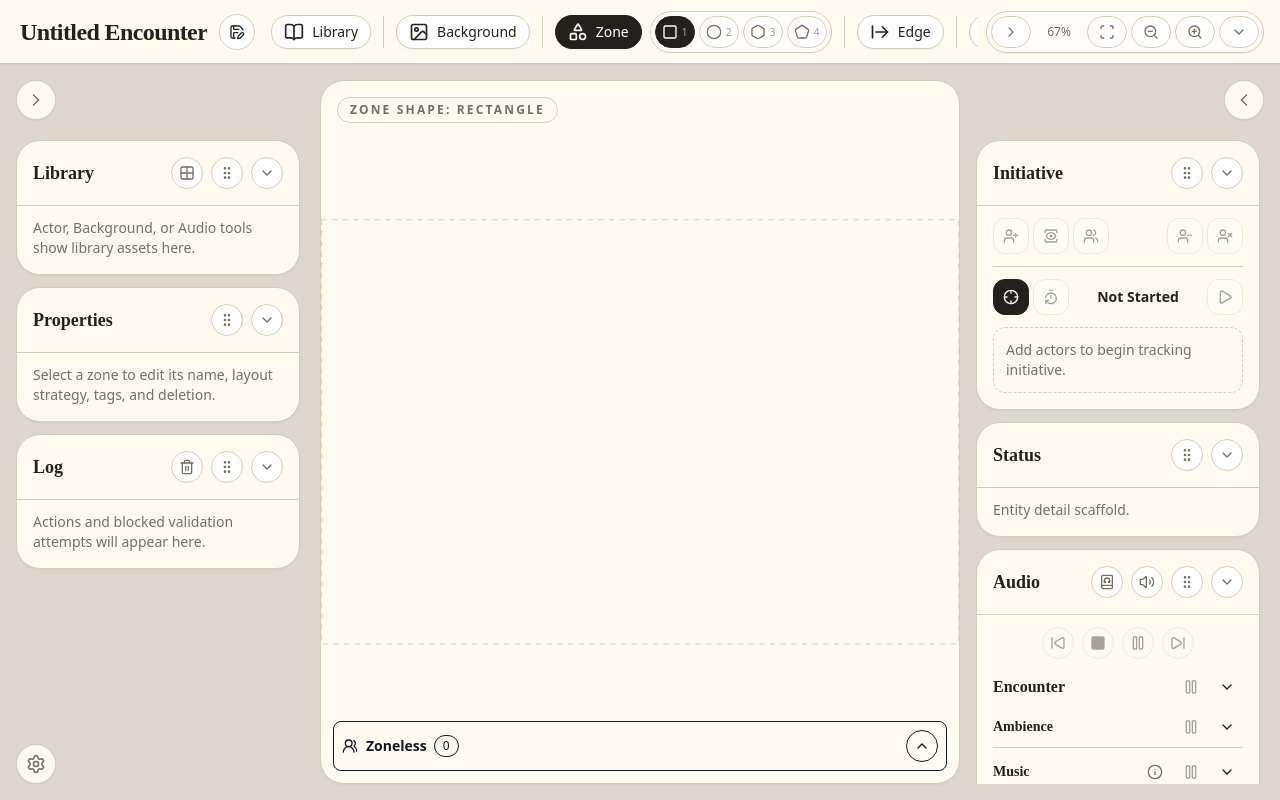
AssetLibraryModal › does not enter a folder when opening its context menu
Click the button "Library" at [321, 32], box 271,14 -> 371,48
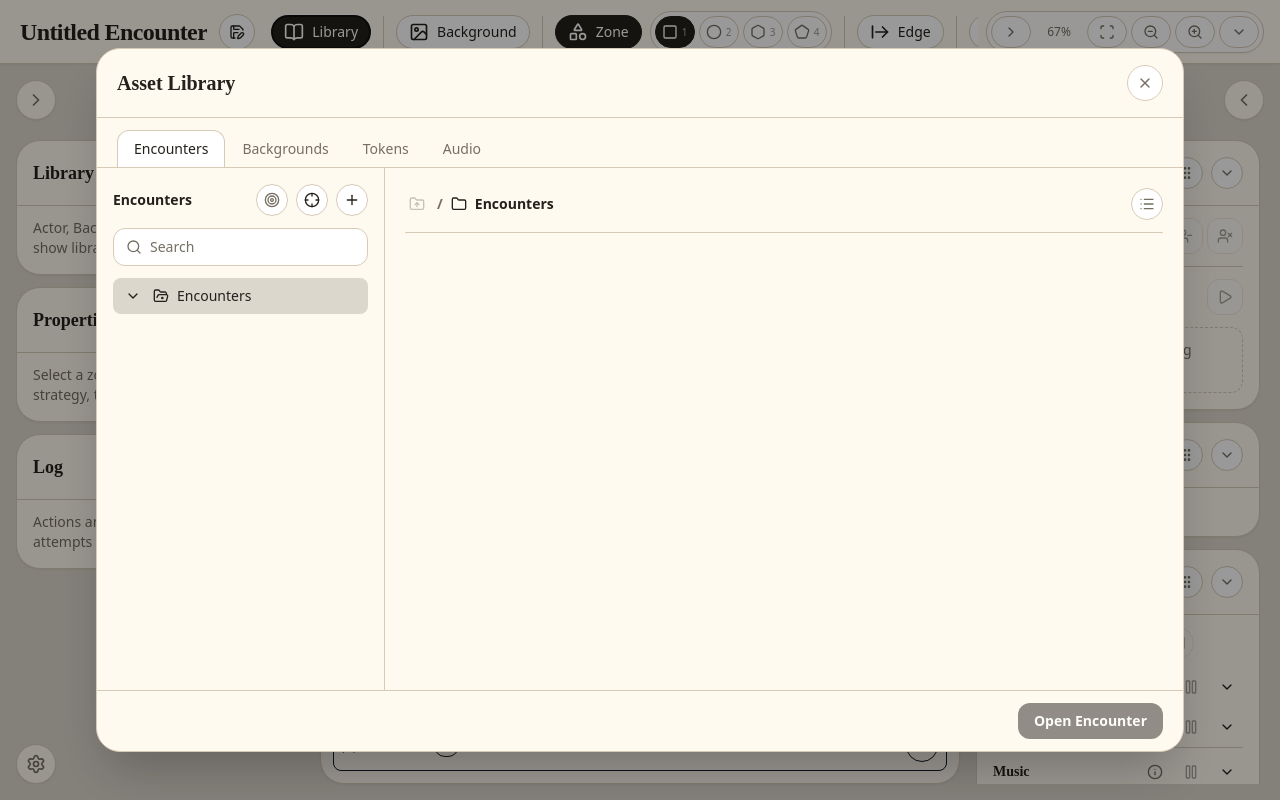
Click the tab "Backgrounds" at [286, 148], box 225,130 -> 346,167
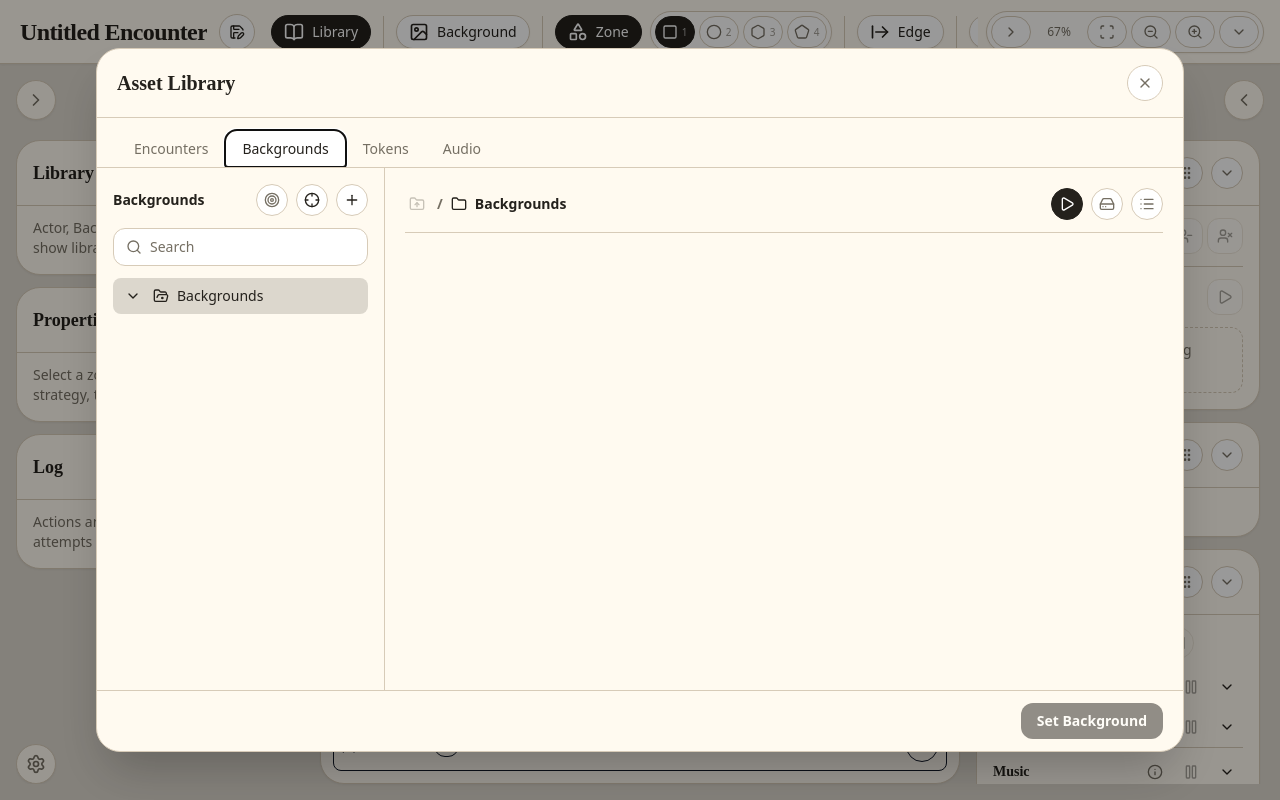
Click the button named "Add to Backgrounds" at [352, 200], box 336,184 -> 368,216
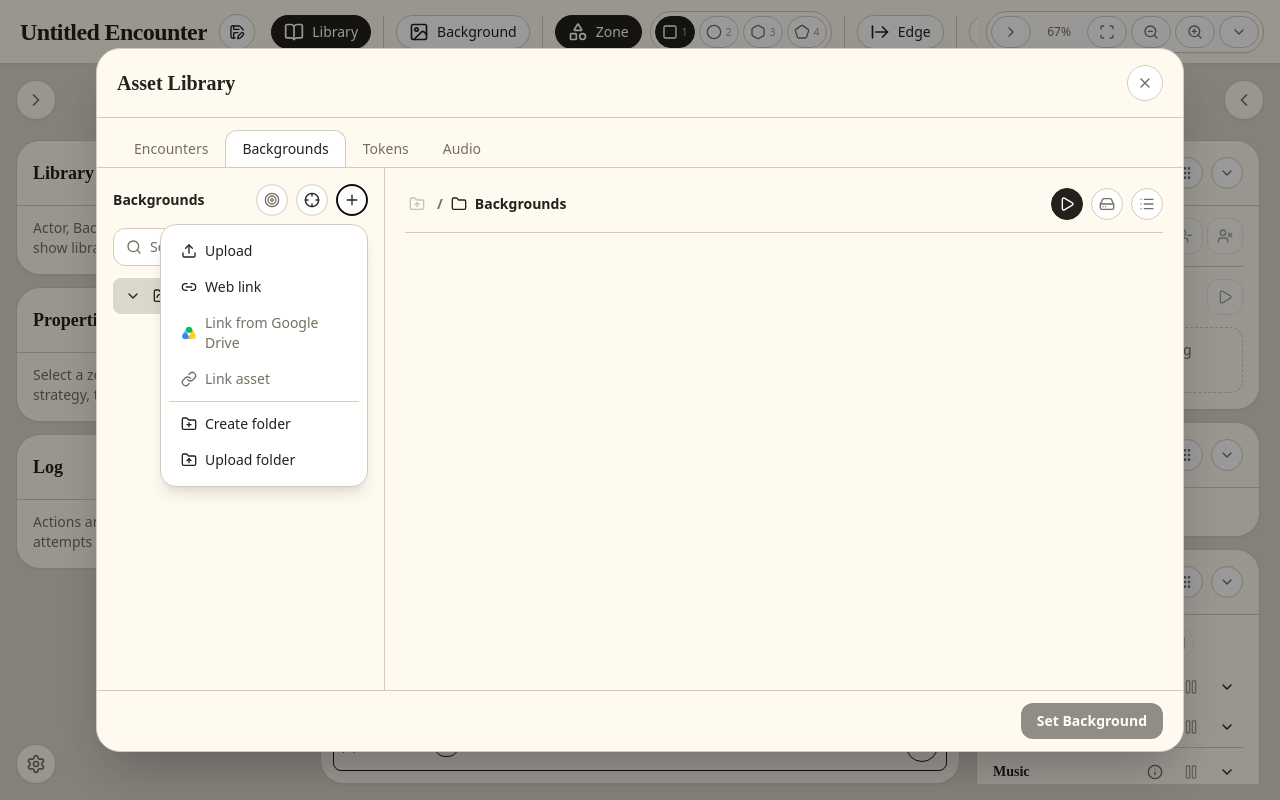
Click the menu item "Create folder" at [264, 424], box 169,406 -> 359,442
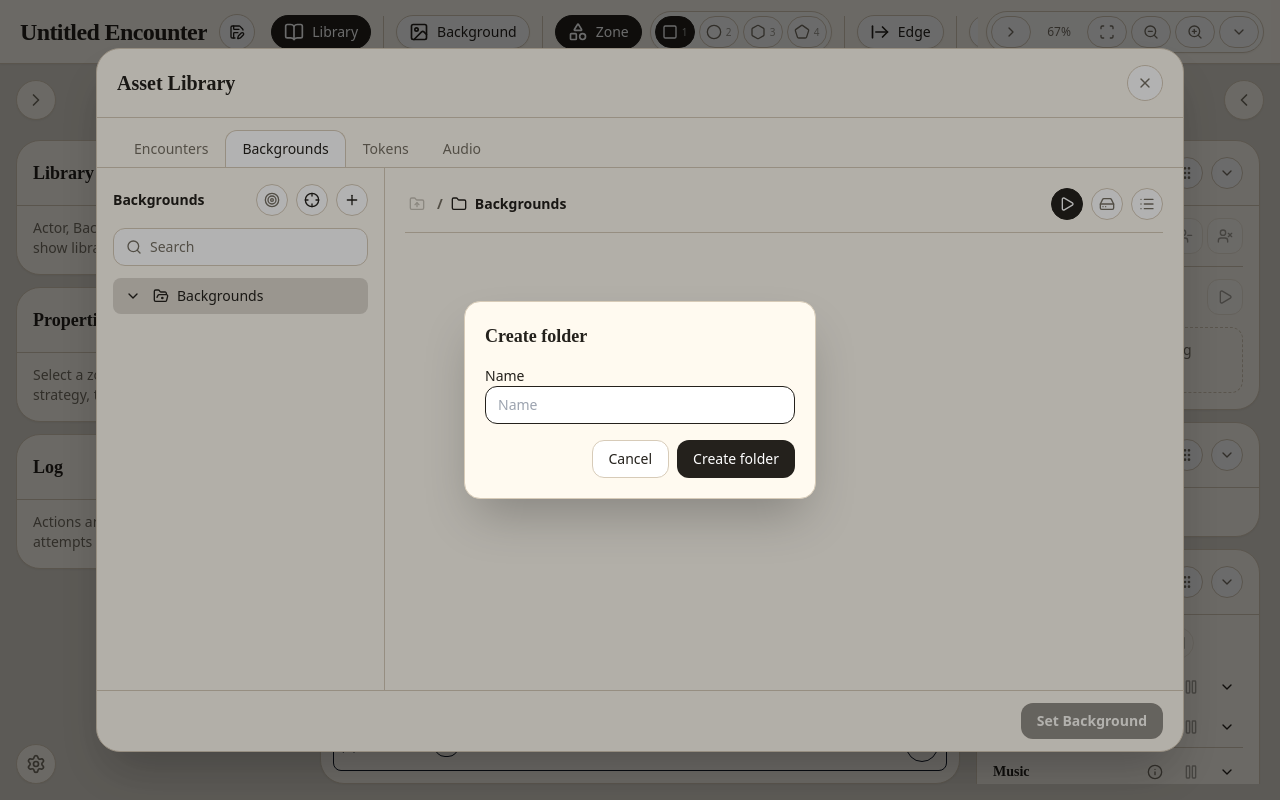
Type "Maps" into the field named "Folder name" at [640, 405], box 485,386 -> 795,424
Click the button "Create folder" at [736, 459], box 677,440 -> 795,478
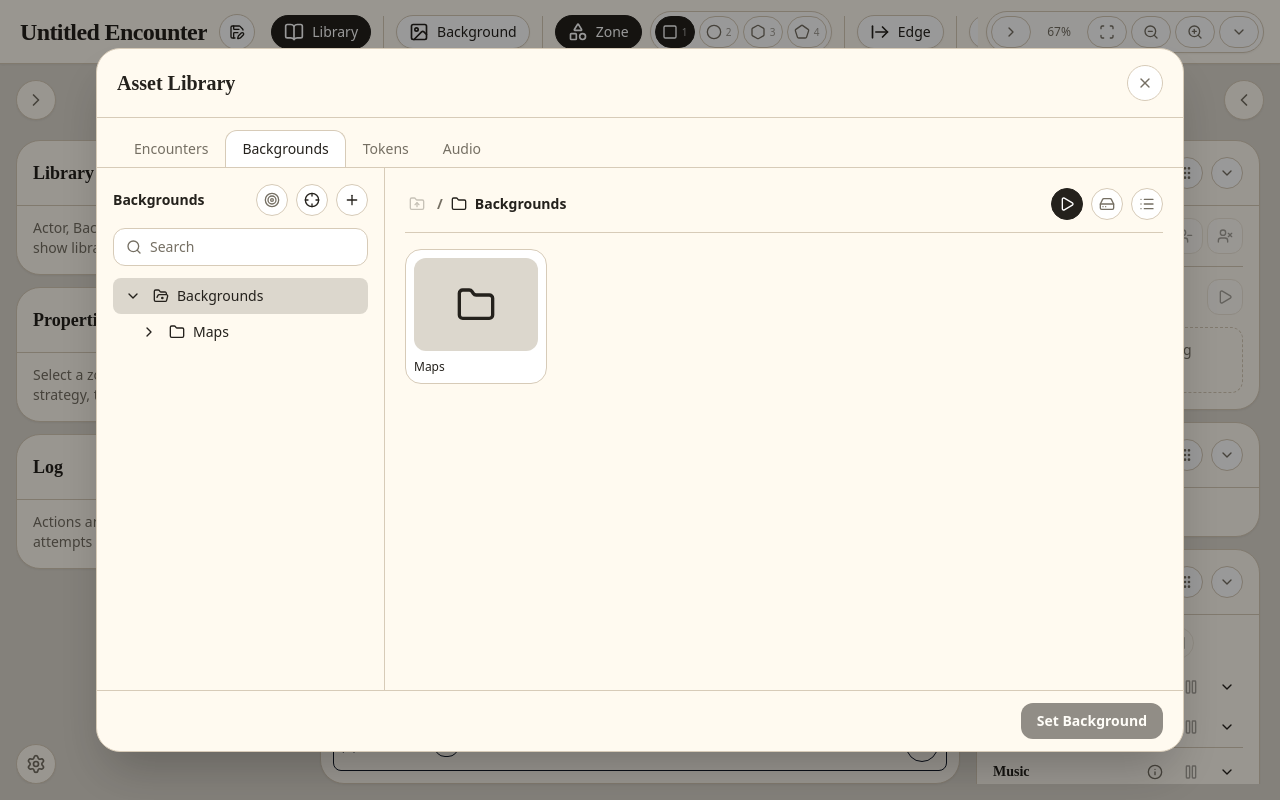
Right-click the button "Maps" at [476, 316], box 405,249 -> 547,384
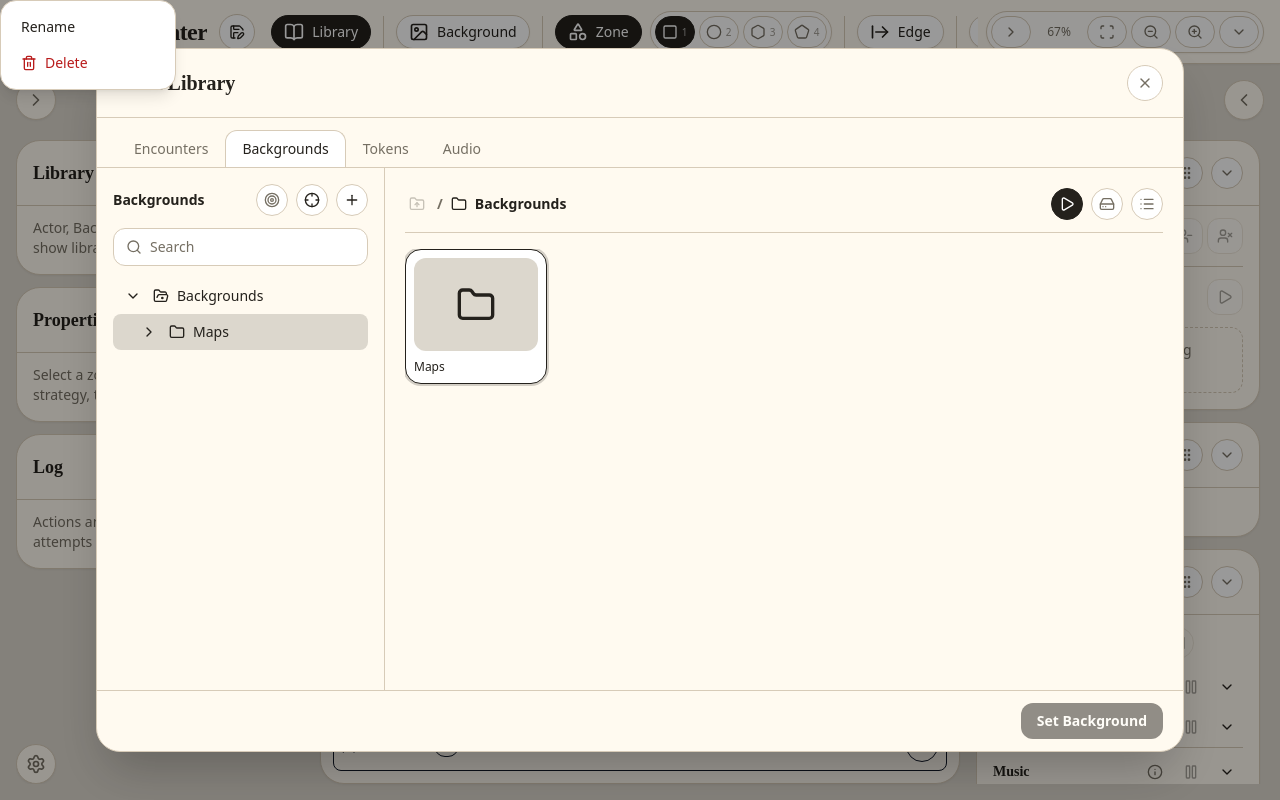
Expected: the element named "Current asset library folder" reads "Backgrounds", 475,194 -> 566,213
Expected: the menu item "Rename" is shown, 9,9 -> 167,45
